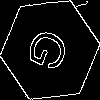G: (25, 25, 78, 79)
